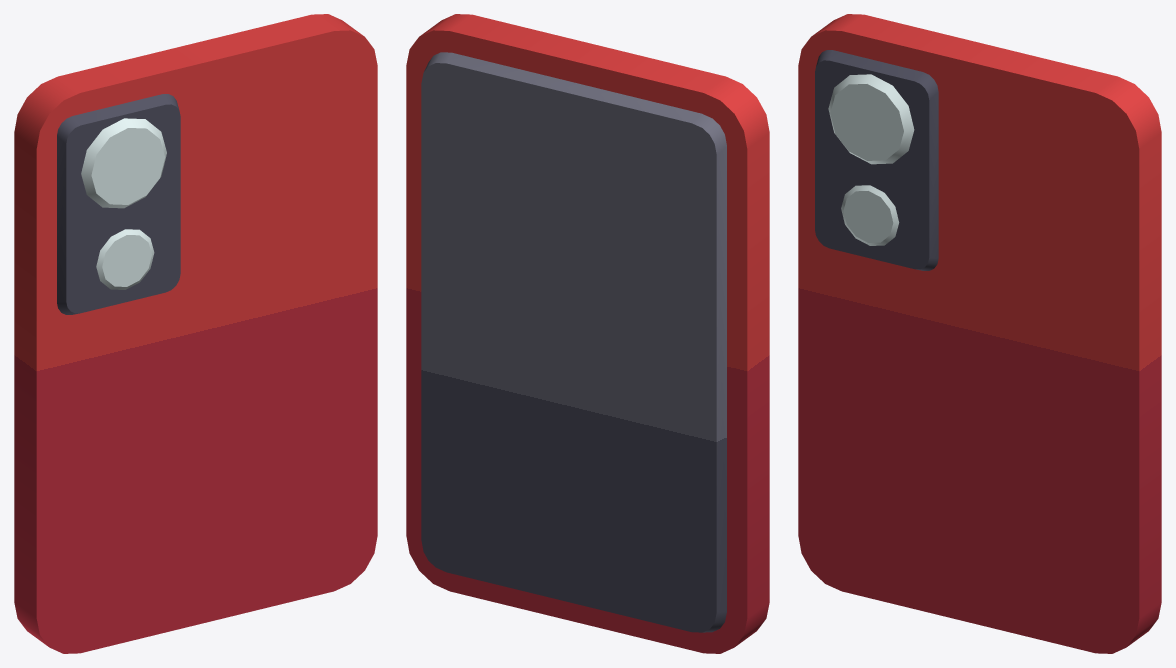
File: CelularRojo.fbx
The picture shows the model from 3 angles, left to right: view 1: azimuth 30°, elevation 25°; view 2: azimuth 150°, elevation 25°; view 3: azimuth 330°, elevation 25°; orthographic projection.
Visible parts, largest first — view 1: CelularRojo; view 2: CelularRojo; view 3: CelularRojo.
Boxes of the visible parts, <box> form: CelularRojo: <box>14,14,377,653</box>; CelularRojo: <box>406,14,769,653</box>; CelularRojo: <box>798,14,1161,653</box>.
Size of the model in its own units: 38.52 by 60.48 by 8.11.
